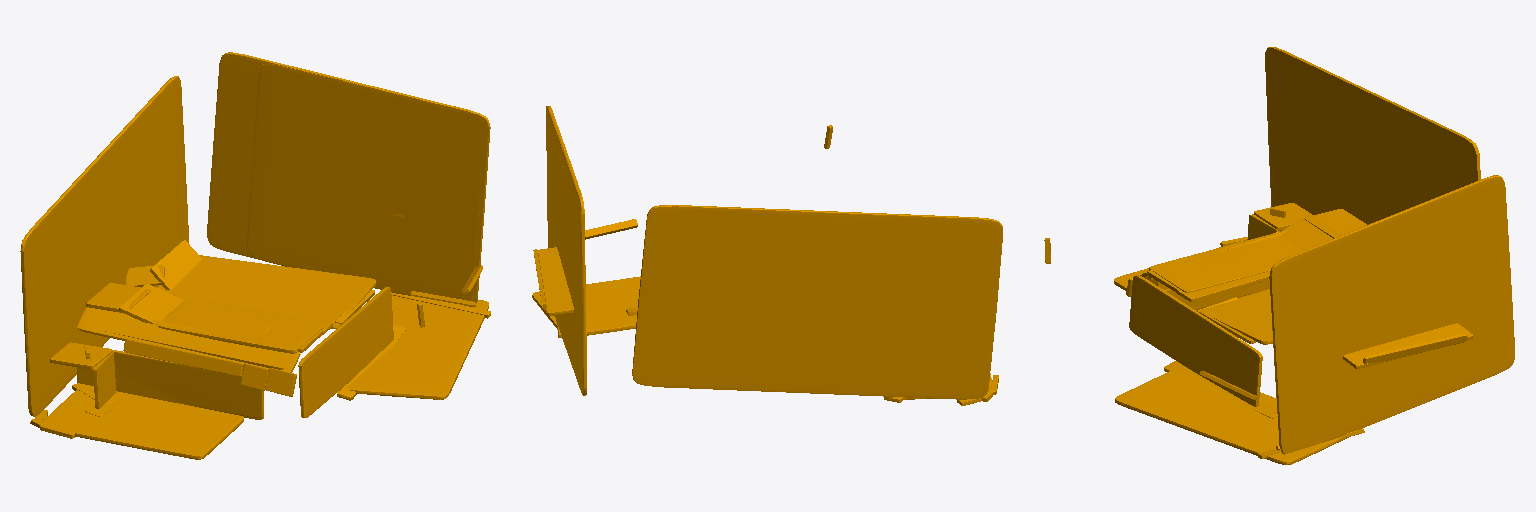
robot.urdf — scene:
<?xml version='1.0' encoding='utf-8'?>
<robot name="scene"><link name="scene_link"><visual><origin xyz="0.000000 0.000000 0.000000" rpy="0.000000 -0.000000 0.000000" /><geometry><mesh filename="part_000.obj" /></geometry></visual><collision><origin xyz="0.000000 0.000000 0.000000" rpy="0.000000 -0.000000 0.000000" /><geometry><mesh filename="part_000.obj" /></geometry></collision><visual><origin xyz="0.000000 0.000000 0.000000" rpy="0.000000 -0.000000 0.000000" /><geometry><mesh filename="part_001.obj" /></geometry></visual><collision><origin xyz="0.000000 0.000000 0.000000" rpy="0.000000 -0.000000 0.000000" /><geometry><mesh filename="part_001.obj" /></geometry></collision><visual><origin xyz="0.000000 0.000000 0.000000" rpy="0.000000 -0.000000 0.000000" /><geometry><mesh filename="part_002.obj" /></geometry></visual><collision><origin xyz="0.000000 0.000000 0.000000" rpy="0.000000 -0.000000 0.000000" /><geometry><mesh filename="part_002.obj" /></geometry></collision><visual><origin xyz="0.000000 0.000000 0.000000" rpy="0.000000 -0.000000 0.000000" /><geometry><mesh filename="part_003.obj" /></geometry></visual><collision><origin xyz="0.000000 0.000000 0.000000" rpy="0.000000 -0.000000 0.000000" /><geometry><mesh filename="part_003.obj" /></geometry></collision><visual><origin xyz="0.000000 0.000000 0.000000" rpy="0.000000 -0.000000 0.000000" /><geometry><mesh filename="part_004.obj" /></geometry></visual><collision><origin xyz="0.000000 0.000000 0.000000" rpy="0.000000 -0.000000 0.000000" /><geometry><mesh filename="part_004.obj" /></geometry></collision><visual><origin xyz="0.000000 0.000000 0.000000" rpy="0.000000 -0.000000 0.000000" /><geometry><mesh filename="part_005.obj" /></geometry></visual><collision><origin xyz="0.000000 0.000000 0.000000" rpy="0.000000 -0.000000 0.000000" /><geometry><mesh filename="part_005.obj" /></geometry></collision><visual><origin xyz="0.000000 0.000000 0.000000" rpy="0.000000 -0.000000 0.000000" /><geometry><mesh filename="part_006.obj" /></geometry></visual><collision><origin xyz="0.000000 0.000000 0.000000" rpy="0.000000 -0.000000 0.000000" /><geometry><mesh filename="part_006.obj" /></geometry></collision><visual><origin xyz="0.000000 0.000000 0.000000" rpy="0.000000 -0.000000 0.000000" /><geometry><mesh filename="part_007.obj" /></geometry></visual><collision><origin xyz="0.000000 0.000000 0.000000" rpy="0.000000 -0.000000 0.000000" /><geometry><mesh filename="part_007.obj" /></geometry></collision><visual><origin xyz="0.000000 0.000000 0.000000" rpy="0.000000 -0.000000 0.000000" /><geometry><mesh filename="part_008.obj" /></geometry></visual><collision><origin xyz="0.000000 0.000000 0.000000" rpy="0.000000 -0.000000 0.000000" /><geometry><mesh filename="part_008.obj" /></geometry></collision><visual><origin xyz="0.000000 0.000000 0.000000" rpy="0.000000 -0.000000 0.000000" /><geometry><mesh filename="part_009.obj" /></geometry></visual><collision><origin xyz="0.000000 0.000000 0.000000" rpy="0.000000 -0.000000 0.000000" /><geometry><mesh filename="part_009.obj" /></geometry></collision><visual><origin xyz="0.000000 0.000000 0.000000" rpy="0.000000 -0.000000 0.000000" /><geometry><mesh filename="part_010.obj" /></geometry></visual><collision><origin xyz="0.000000 0.000000 0.000000" rpy="0.000000 -0.000000 0.000000" /><geometry><mesh filename="part_010.obj" /></geometry></collision><visual><origin xyz="0.000000 0.000000 0.000000" rpy="0.000000 -0.000000 0.000000" /><geometry><mesh filename="part_011.obj" /></geometry></visual><collision><origin xyz="0.000000 0.000000 0.000000" rpy="0.000000 -0.000000 0.000000" /><geometry><mesh filename="part_011.obj" /></geometry></collision><visual><origin xyz="0.000000 0.000000 0.000000" rpy="0.000000 -0.000000 0.000000" /><geometry><mesh filename="part_012.obj" /></geometry></visual><collision><origin xyz="0.000000 0.000000 0.000000" rpy="0.000000 -0.000000 0.000000" /><geometry><mesh filename="part_012.obj" /></geometry></collision><visual><origin xyz="0.000000 0.000000 0.000000" rpy="0.000000 -0.000000 0.000000" /><geometry><mesh filename="part_013.obj" /></geometry></visual><collision><origin xyz="0.000000 0.000000 0.000000" rpy="0.000000 -0.000000 0.000000" /><geometry><mesh filename="part_013.obj" /></geometry></collision><visual><origin xyz="0.000000 0.000000 0.000000" rpy="0.000000 -0.000000 0.000000" /><geometry><mesh filename="part_014.obj" /></geometry></visual><collision><origin xyz="0.000000 0.000000 0.000000" rpy="0.000000 -0.000000 0.000000" /><geometry><mesh filename="part_014.obj" /></geometry></collision><visual><origin xyz="0.000000 0.000000 0.000000" rpy="0.000000 -0.000000 0.000000" /><geometry><mesh filename="part_015.obj" /></geometry></visual><collision><origin xyz="0.000000 0.000000 0.000000" rpy="0.000000 -0.000000 0.000000" /><geometry><mesh filename="part_015.obj" /></geometry></collision><visual><origin xyz="0.000000 0.000000 0.000000" rpy="0.000000 -0.000000 0.000000" /><geometry><mesh filename="part_016.obj" /></geometry></visual><collision><origin xyz="0.000000 0.000000 0.000000" rpy="0.000000 -0.000000 0.000000" /><geometry><mesh filename="part_016.obj" /></geometry></collision><visual><origin xyz="0.000000 0.000000 0.000000" rpy="0.000000 -0.000000 0.000000" /><geometry><mesh filename="part_017.obj" /></geometry></visual><collision><origin xyz="0.000000 0.000000 0.000000" rpy="0.000000 -0.000000 0.000000" /><geometry><mesh filename="part_017.obj" /></geometry></collision><visual><origin xyz="0.000000 0.000000 0.000000" rpy="0.000000 -0.000000 0.000000" /><geometry><mesh filename="part_018.obj" /></geometry></visual><collision><origin xyz="0.000000 0.000000 0.000000" rpy="0.000000 -0.000000 0.000000" /><geometry><mesh filename="part_018.obj" /></geometry></collision><visual><origin xyz="0.000000 0.000000 0.000000" rpy="0.000000 -0.000000 0.000000" /><geometry><mesh filename="part_019.obj" /></geometry></visual><collision><origin xyz="0.000000 0.000000 0.000000" rpy="0.000000 -0.000000 0.000000" /><geometry><mesh filename="part_019.obj" /></geometry></collision><visual><origin xyz="0.000000 0.000000 0.000000" rpy="0.000000 -0.000000 0.000000" /><geometry><mesh filename="part_020.obj" /></geometry></visual><collision><origin xyz="0.000000 0.000000 0.000000" rpy="0.000000 -0.000000 0.000000" /><geometry><mesh filename="part_020.obj" /></geometry></collision><visual><origin xyz="0.000000 0.000000 0.000000" rpy="0.000000 -0.000000 0.000000" /><geometry><mesh filename="part_021.obj" /></geometry></visual><collision><origin xyz="0.000000 0.000000 0.000000" rpy="0.000000 -0.000000 0.000000" /><geometry><mesh filename="part_021.obj" /></geometry></collision><visual><origin xyz="0.000000 0.000000 0.000000" rpy="0.000000 -0.000000 0.000000" /><geometry><mesh filename="part_022.obj" /></geometry></visual><collision><origin xyz="0.000000 0.000000 0.000000" rpy="0.000000 -0.000000 0.000000" /><geometry><mesh filename="part_022.obj" /></geometry></collision><visual><origin xyz="0.000000 0.000000 0.000000" rpy="0.000000 -0.000000 0.000000" /><geometry><mesh filename="part_023.obj" /></geometry></visual><collision><origin xyz="0.000000 0.000000 0.000000" rpy="0.000000 -0.000000 0.000000" /><geometry><mesh filename="part_023.obj" /></geometry></collision><visual><origin xyz="0.000000 0.000000 0.000000" rpy="0.000000 -0.000000 0.000000" /><geometry><mesh filename="part_024.obj" /></geometry></visual><collision><origin xyz="0.000000 0.000000 0.000000" rpy="0.000000 -0.000000 0.000000" /><geometry><mesh filename="part_024.obj" /></geometry></collision><visual><origin xyz="0.000000 0.000000 0.000000" rpy="0.000000 -0.000000 0.000000" /><geometry><mesh filename="part_025.obj" /></geometry></visual><collision><origin xyz="0.000000 0.000000 0.000000" rpy="0.000000 -0.000000 0.000000" /><geometry><mesh filename="part_025.obj" /></geometry></collision><visual><origin xyz="0.000000 0.000000 0.000000" rpy="0.000000 -0.000000 0.000000" /><geometry><mesh filename="part_026.obj" /></geometry></visual><collision><origin xyz="0.000000 0.000000 0.000000" rpy="0.000000 -0.000000 0.000000" /><geometry><mesh filename="part_026.obj" /></geometry></collision><visual><origin xyz="0.000000 0.000000 0.000000" rpy="0.000000 -0.000000 0.000000" /><geometry><mesh filename="part_027.obj" /></geometry></visual><collision><origin xyz="0.000000 0.000000 0.000000" rpy="0.000000 -0.000000 0.000000" /><geometry><mesh filename="part_027.obj" /></geometry></collision><visual><origin xyz="0.000000 0.000000 0.000000" rpy="0.000000 -0.000000 0.000000" /><geometry><mesh filename="part_028.obj" /></geometry></visual><collision><origin xyz="0.000000 0.000000 0.000000" rpy="0.000000 -0.000000 0.000000" /><geometry><mesh filename="part_028.obj" /></geometry></collision><visual><origin xyz="0.000000 0.000000 0.000000" rpy="0.000000 -0.000000 0.000000" /><geometry><mesh filename="part_029.obj" /></geometry></visual><collision><origin xyz="0.000000 0.000000 0.000000" rpy="0.000000 -0.000000 0.000000" /><geometry><mesh filename="part_029.obj" /></geometry></collision><visual><origin xyz="0.000000 0.000000 0.000000" rpy="0.000000 -0.000000 0.000000" /><geometry><mesh filename="part_030.obj" /></geometry></visual><collision><origin xyz="0.000000 0.000000 0.000000" rpy="0.000000 -0.000000 0.000000" /><geometry><mesh filename="part_030.obj" /></geometry></collision><visual><origin xyz="0.000000 0.000000 0.000000" rpy="0.000000 -0.000000 0.000000" /><geometry><mesh filename="part_031.obj" /></geometry></visual><collision><origin xyz="0.000000 0.000000 0.000000" rpy="0.000000 -0.000000 0.000000" /><geometry><mesh filename="part_031.obj" /></geometry></collision><visual><origin xyz="0.000000 0.000000 0.000000" rpy="0.000000 -0.000000 0.000000" /><geometry><mesh filename="part_032.obj" /></geometry></visual><collision><origin xyz="0.000000 0.000000 0.000000" rpy="0.000000 -0.000000 0.000000" /><geometry><mesh filename="part_032.obj" /></geometry></collision><visual><origin xyz="0.000000 0.000000 0.000000" rpy="0.000000 -0.000000 0.000000" /><geometry><mesh filename="part_033.obj" /></geometry></visual><collision><origin xyz="0.000000 0.000000 0.000000" rpy="0.000000 -0.000000 0.000000" /><geometry><mesh filename="part_033.obj" /></geometry></collision><visual><origin xyz="0.000000 0.000000 0.000000" rpy="0.000000 -0.000000 0.000000" /><geometry><mesh filename="part_034.obj" /></geometry></visual><collision><origin xyz="0.000000 0.000000 0.000000" rpy="0.000000 -0.000000 0.000000" /><geometry><mesh filename="part_034.obj" /></geometry></collision><visual><origin xyz="0.000000 0.000000 0.000000" rpy="0.000000 -0.000000 0.000000" /><geometry><mesh filename="part_035.obj" /></geometry></visual><collision><origin xyz="0.000000 0.000000 0.000000" rpy="0.000000 -0.000000 0.000000" /><geometry><mesh filename="part_035.obj" /></geometry></collision><visual><origin xyz="0.000000 0.000000 0.000000" rpy="0.000000 -0.000000 0.000000" /><geometry><mesh filename="part_036.obj" /></geometry></visual><collision><origin xyz="0.000000 0.000000 0.000000" rpy="0.000000 -0.000000 0.000000" /><geometry><mesh filename="part_036.obj" /></geometry></collision><visual><origin xyz="0.000000 0.000000 0.000000" rpy="0.000000 -0.000000 0.000000" /><geometry><mesh filename="part_037.obj" /></geometry></visual><collision><origin xyz="0.000000 0.000000 0.000000" rpy="0.000000 -0.000000 0.000000" /><geometry><mesh filename="part_037.obj" /></geometry></collision><visual><origin xyz="0.000000 0.000000 0.000000" rpy="0.000000 -0.000000 0.000000" /><geometry><mesh filename="part_038.obj" /></geometry></visual><collision><origin xyz="0.000000 0.000000 0.000000" rpy="0.000000 -0.000000 0.000000" /><geometry><mesh filename="part_038.obj" /></geometry></collision><visual><origin xyz="0.000000 0.000000 0.000000" rpy="0.000000 -0.000000 0.000000" /><geometry><mesh filename="part_039.obj" /></geometry></visual><collision><origin xyz="0.000000 0.000000 0.000000" rpy="0.000000 -0.000000 0.000000" /><geometry><mesh filename="part_039.obj" /></geometry></collision></link></robot>

--- What the picture shows (computed from the rendered views, not written in the file) ---
Views: 3 orthographic renders of the robot side by side, from view 1: azimuth 30°, elevation 25°; view 2: azimuth 150°, elevation 25°; view 3: azimuth 270°, elevation 25°.
Model scene with 1 links and 0 joints (none), rooted at scene_link, posed all joints at 0.
Visible links, largest first — view 1: scene_link; view 2: scene_link; view 3: scene_link.
Boxes of the visible links, x1,y1,x2,y2 form: scene_link: (20, 52, 490, 459); scene_link: (532, 106, 1002, 405); scene_link: (1044, 47, 1514, 464).
Bounding box of the posed robot: 5.13 × 4.37 × 2.24 m (x, y, z).
40 mesh visuals loaded from 40 distinct referenced files (40 OBJ).